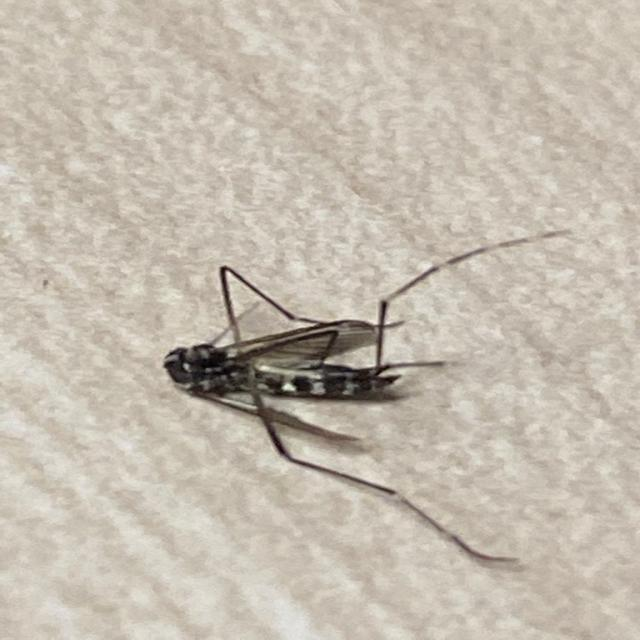albopictus: (121, 230, 546, 567)
